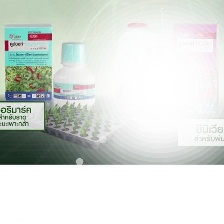carton: (169, 20, 221, 117), (2, 20, 53, 103)
insecticide: (135, 43, 180, 130), (50, 38, 97, 110)
